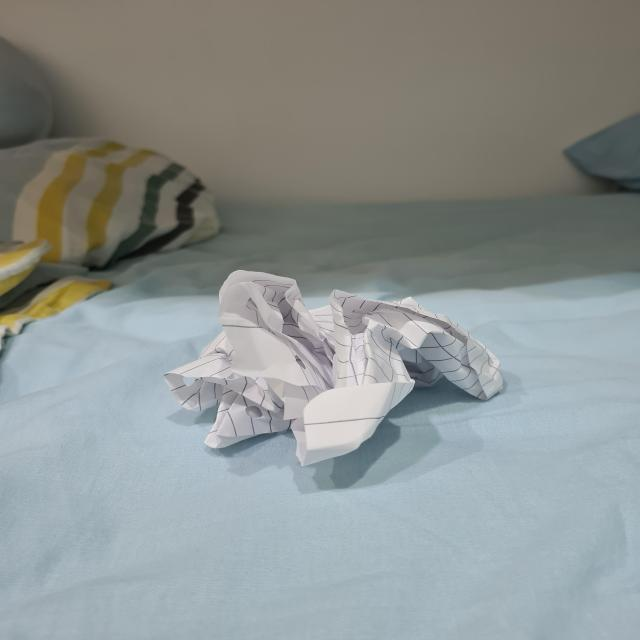Organik: (183, 260, 515, 458)
